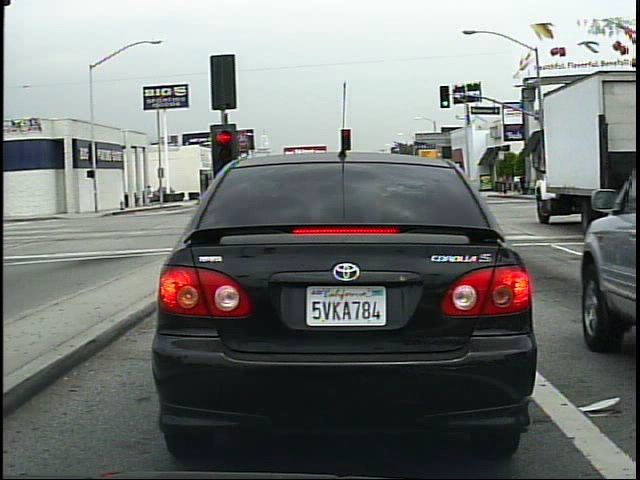person: (519, 169, 528, 197), (149, 181, 156, 208)
